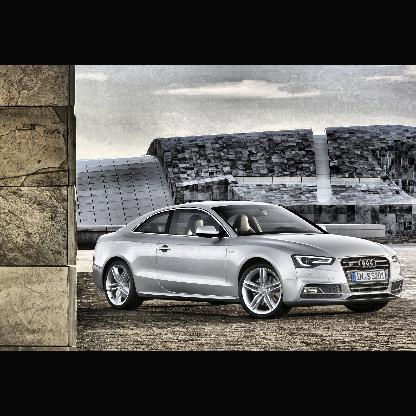Audi S5 Coupe 2012: (92, 201, 405, 319)
